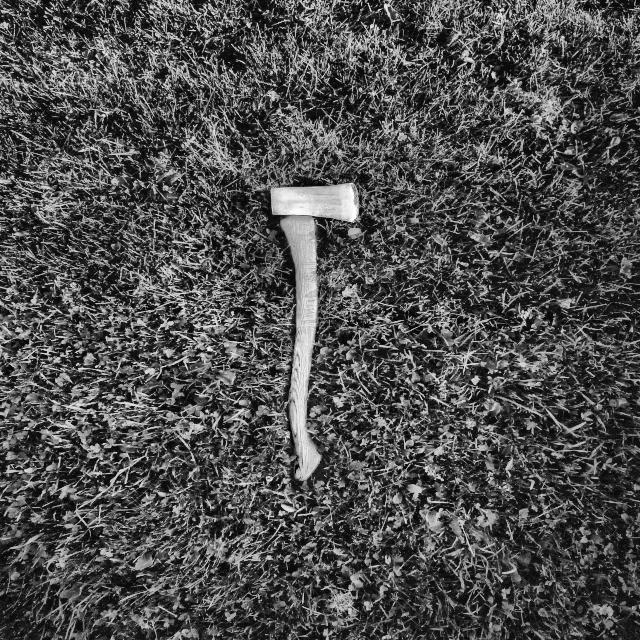kapak: (237, 160, 391, 500)
